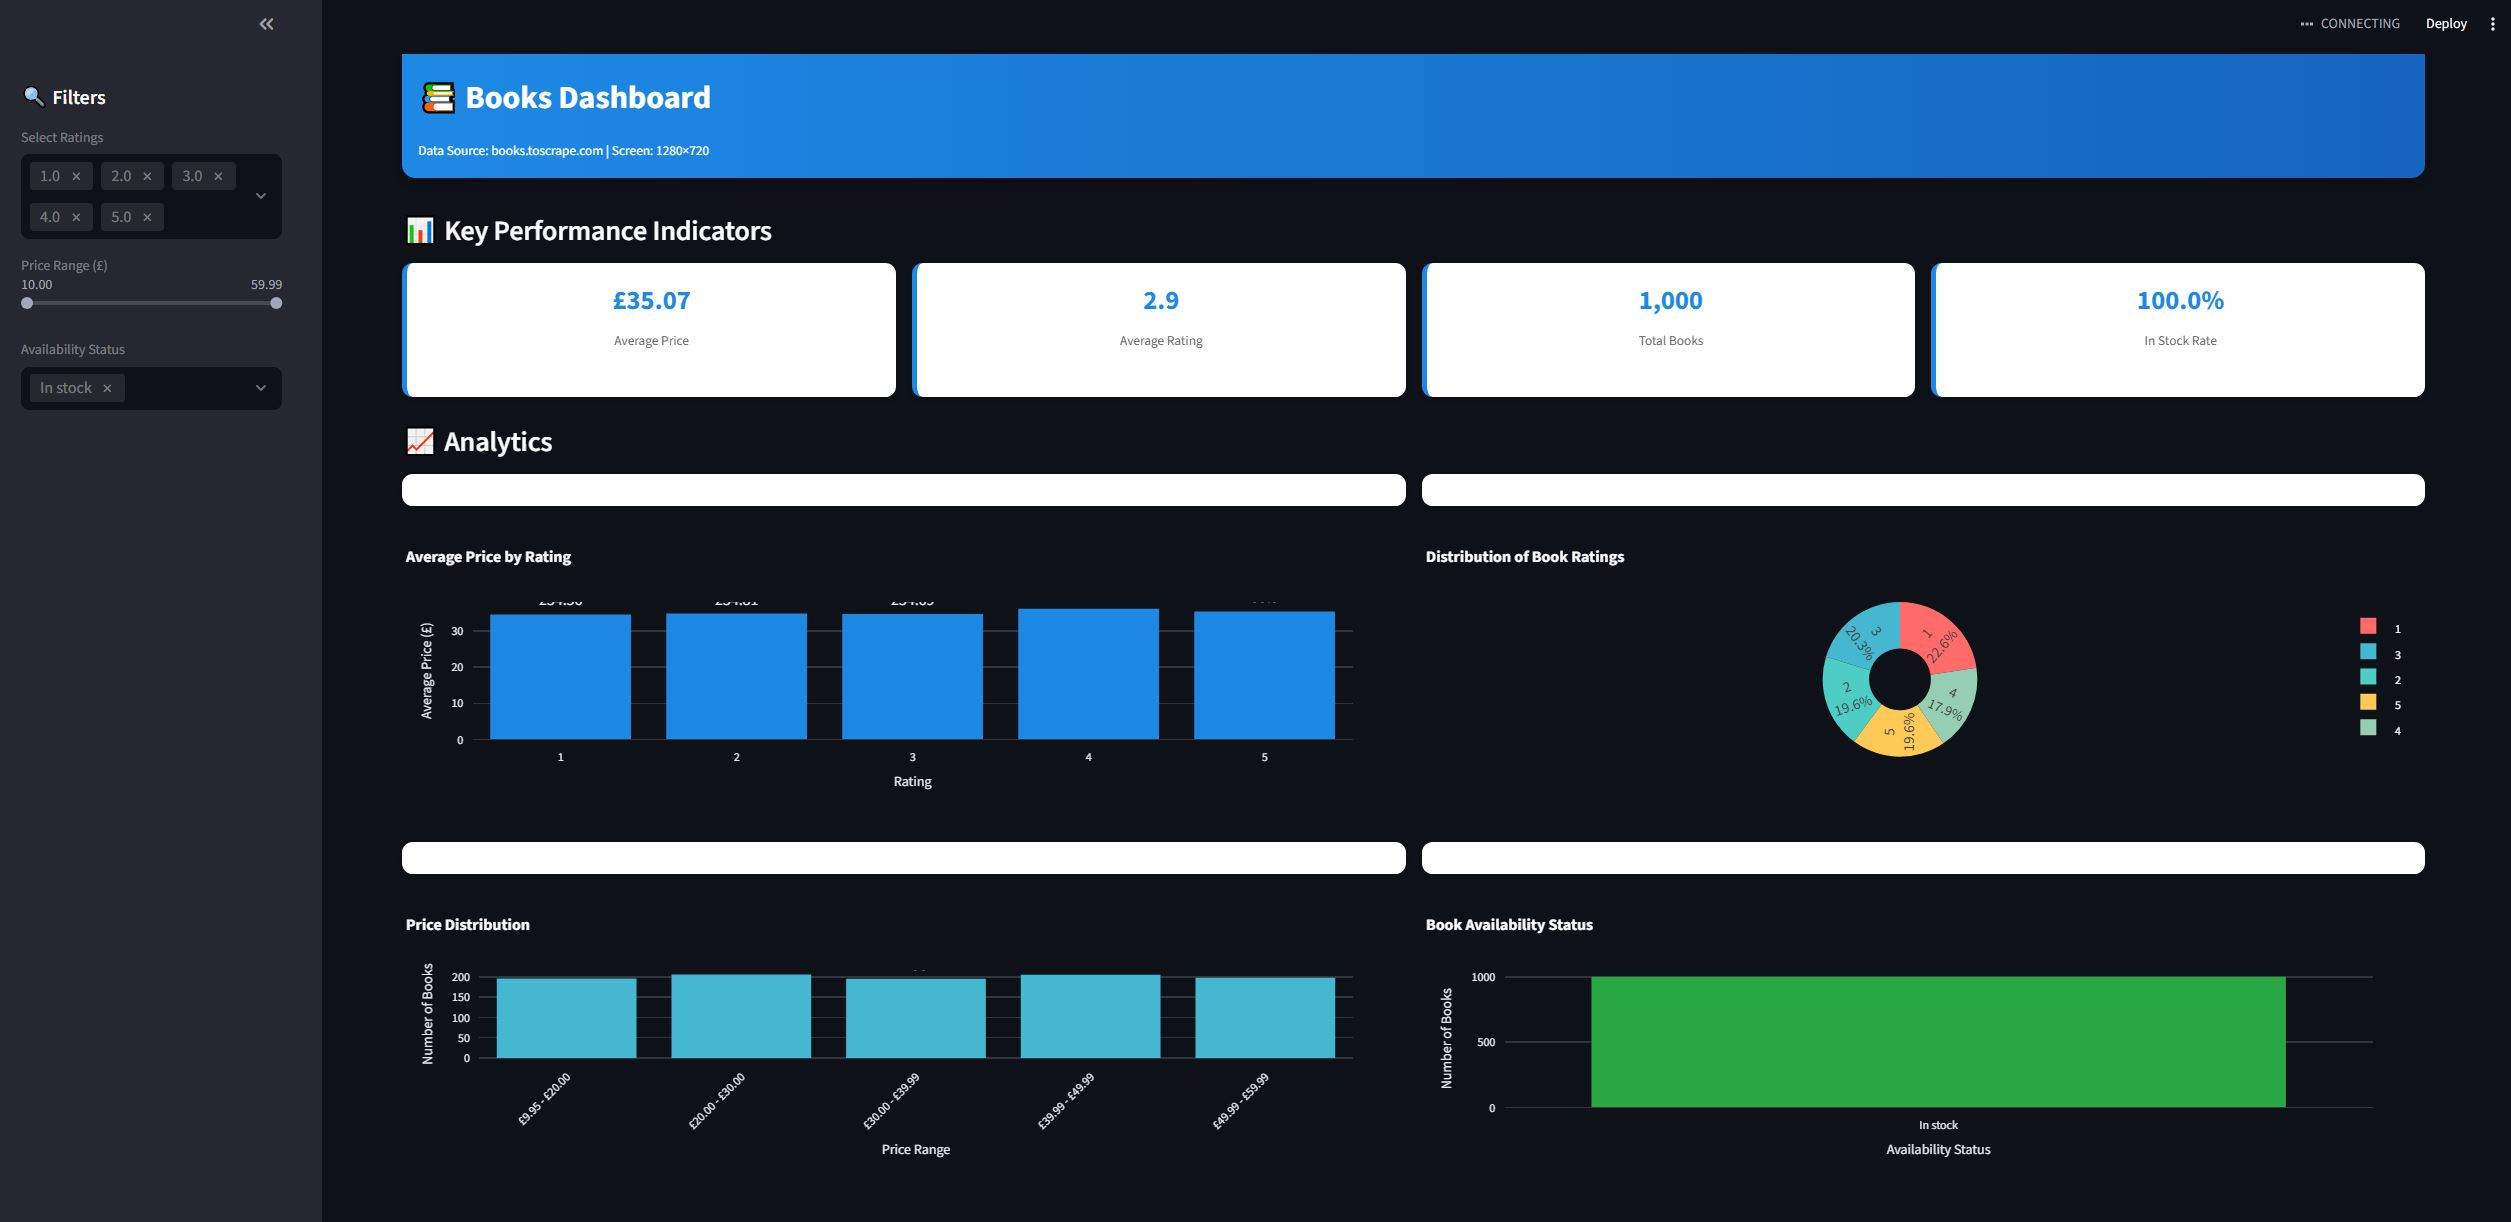

The page's visual inventory and layout, read from the dashboard file:
{"tool":"powerbi","page":{"name":"Dashboard","canvas":[1280,800],"ordinal":0},"visuals":[{"type":"pieChart","title":"In Stock","fields":{"Category":["books_data.Availability"],"Y":["CountNonNull(books_data.Title)"]},"box":[419.6,557.5,418.1,233.8],"z":0},{"type":"clusteredBarChart","title":"Distribution by Category","fields":{"Category":["books_data.Category"],"Y":["CountNonNull(books_data.Title)"]},"box":[419.6,302,416.7,227.9],"z":1000},{"type":"clusteredBarChart","title":"Average Price by Category","fields":{"Category":["books_data.Category"],"Y":["Avg(books_data.Price (£))"]},"box":[16,557.5,371.7,233.8],"z":2000},{"type":"pieChart","title":"Distribution of Books Rating","fields":{"Category":["books_data.Rating"],"Y":["CountNonNull(books_data.Title)"]},"box":[853.7,302,416.7,229.4],"z":3000},{"type":"clusteredColumnChart","title":"Average Price by Rating","fields":{"Category":["books_data.Rating"],"Y":["Avg(books_data.Price (£))"]},"box":[16,302,371.7,227.9],"z":4000},{"type":"shape","box":[0,0,1280,83.4],"z":5000},{"type":"textbox","box":[69.8,0,288.2,48.5],"z":6000},{"type":"image","box":[0,3,69.8,48.5],"z":7000},{"type":"textbox","box":[69.8,47,280.6,36.4],"z":8000},{"type":"textbox","box":[16,101.6,288.9,46.5],"z":9000},{"type":"cardVisual","fields":{"Data":["Avg(books_data.Price (£))"]},"box":[16,148.1,259.9,88.6],"z":10000},{"type":"cardVisual","fields":{"Data":["Avg(books_data.Rating)"]},"box":[347.5,148.1,259.9,88.6],"z":11000},{"type":"cardVisual","fields":{"Data":["CountNonNull(books_data.Title)"]},"box":[679,148.1,259.9,88.6],"z":12000},{"type":"cardVisual","fields":{"Data":["books_data.In Stock"]},"box":[1010.5,148.1,259.9,88.6],"z":13000},{"type":"textbox","box":[16,248.3,259.9,34.8],"z":14000},{"type":"tableEx","fields":{"Values":["books_data.Title","books_data.Price (£)","books_data.Rating","books_data.Availability","books_data.Category","books_data.Description"]},"box":[853.7,557.5,416.7,232.3],"z":15000},{"type":"shape","box":[2.3,130.7,1277.7,21.8],"z":16000},{"type":"shape","box":[0,277.3,1280.6,21.8],"z":17000},{"type":"shape","box":[0,531.4,1280.6,21.8],"z":17001}]}

Visuals, with their boxes on the page's 1280x800 design canvas (x1, y1, x2, y2). These are canvas units, not pixel positions in the 2511x1222 screenshot, which may show the page scaled, cropped or inside an application window:
"In Stock" pieChart: pyautogui.locateOnScreen(420, 558, 838, 791)
"Distribution by Category" clusteredBarChart: pyautogui.locateOnScreen(420, 302, 836, 530)
"Average Price by Category" clusteredBarChart: pyautogui.locateOnScreen(16, 558, 388, 791)
"Distribution of Books Rating" pieChart: pyautogui.locateOnScreen(854, 302, 1270, 531)
"Average Price by Rating" clusteredColumnChart: pyautogui.locateOnScreen(16, 302, 388, 530)
shape: pyautogui.locateOnScreen(0, 0, 1280, 83)
textbox: pyautogui.locateOnScreen(70, 0, 358, 48)
image: pyautogui.locateOnScreen(0, 3, 70, 52)
textbox: pyautogui.locateOnScreen(70, 47, 350, 83)
textbox: pyautogui.locateOnScreen(16, 102, 305, 148)
cardVisual - Avg(books_data.Price (£)): pyautogui.locateOnScreen(16, 148, 276, 237)
cardVisual - Avg(books_data.Rating): pyautogui.locateOnScreen(348, 148, 607, 237)
cardVisual - CountNonNull(books_data.Title): pyautogui.locateOnScreen(679, 148, 939, 237)
cardVisual - books_data.In Stock: pyautogui.locateOnScreen(1010, 148, 1270, 237)
textbox: pyautogui.locateOnScreen(16, 248, 276, 283)
tableEx - books_data.Title x books_data.Price (£): pyautogui.locateOnScreen(854, 558, 1270, 790)
shape: pyautogui.locateOnScreen(2, 131, 1280, 152)
shape: pyautogui.locateOnScreen(0, 277, 1281, 299)
shape: pyautogui.locateOnScreen(0, 531, 1281, 553)
